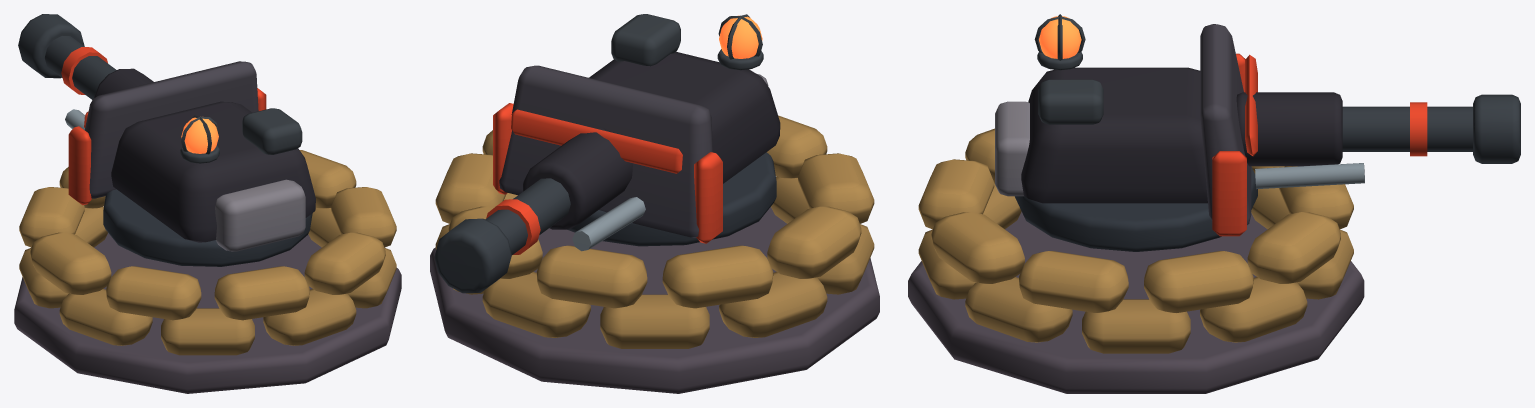
Rendered from cannon.glb.
3 renders of one model, left to right at view 1: azimuth 30°, elevation 25°; view 2: azimuth 150°, elevation 25°; view 3: azimuth 270°, elevation 25°, orthographic. The views are drawn at different scales.
Parts seen in each view (by area): view 1: cannon Sand webbing, cannon Bunker footing, cannon Turret Ashen charcoal, cannon Turret Gunmetal, cannon Turret Ashen slate, cannon Turret Ash grey, cannon Turret Ember paint, cannon Turret Ember glow; view 2: cannon Sand webbing, cannon Bunker footing, cannon Turret Ashen slate, cannon Turret Gunmetal, cannon Turret Ashen charcoal, cannon Turret Ember paint, cannon Turret Steel, cannon Turret Ember glow; view 3: cannon Sand webbing, cannon Turret Ashen charcoal, cannon Bunker footing, cannon Turret Gunmetal, cannon Turret Ashen slate, cannon Turret Ember paint, cannon Turret Ash grey, cannon Turret Steel, cannon Turret Ember glow.
Part boxes in pixels (<box>): cannon Sand webbing: <box>19,150,396,355</box>; cannon Bunker footing: <box>14,233,401,393</box>; cannon Turret Ashen charcoal: <box>94,68,315,242</box>; cannon Turret Gunmetal: <box>18,14,312,266</box>; cannon Turret Ashen slate: <box>85,61,258,198</box>; cannon Turret Ash grey: <box>215,179,305,251</box>; cannon Turret Ember paint: <box>61,47,266,205</box>; cannon Turret Ember glow: <box>181,117,218,153</box>; cannon Sand webbing: <box>435,115,874,348</box>; cannon Bunker footing: <box>430,207,879,393</box>; cannon Turret Ashen slate: <box>499,65,712,237</box>; cannon Turret Gunmetal: <box>434,14,776,293</box>; cannon Turret Ashen charcoal: <box>523,51,780,229</box>; cannon Turret Ember paint: <box>486,103,722,254</box>; cannon Turret Steel: <box>512,197,645,251</box>; cannon Turret Ember glow: <box>719,15,762,58</box>; cannon Sand webbing: <box>918,128,1353,353</box>; cannon Turret Ashen charcoal: <box>1021,67,1342,203</box>; cannon Bunker footing: <box>908,211,1364,393</box>; cannon Turret Gunmetal: <box>1015,14,1520,251</box>; cannon Turret Ashen slate: <box>1200,24,1251,224</box>; cannon Turret Ember paint: <box>1212,53,1427,236</box>; cannon Turret Ash grey: <box>995,101,1029,196</box>; cannon Turret Steel: <box>1255,163,1364,189</box>; cannon Turret Ember glow: <box>1039,16,1081,58</box>.
Bounding box in the file's own units: 2 × 1.36 × 2.82.
Materials: 9 (8 with a texture image).
